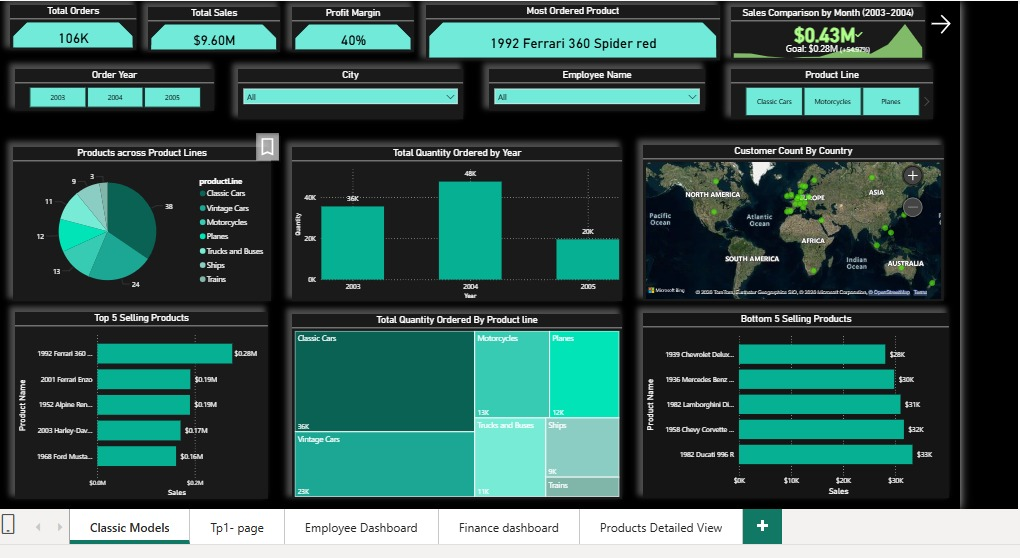

The dashboard page shown, as its layout file describes it:
{"tool":"powerbi","page":{"name":"Classic Models","canvas":[1700,900],"ordinal":0},"visuals":[{"type":"cardVisual","title":"Profit Margin","fields":{"Data":["Order Details.Profit_%"]},"box":[518,10.1,216.3,80.5],"z":0},{"type":"cardVisual","title":"Most Ordered Product","fields":{"Data":["Orders.Most_Ordered_Product"]},"box":[754.4,7.5,520.6,98.1],"z":1000},{"type":"barChart","title":"Top 5 Selling Products","fields":{"Category":["Products.productName"],"Y":["Sum(Order Details.Sales)"]},"box":[18.1,535.8,485.4,350.5],"z":2000},{"type":"pieChart","fields":{"Category":["Productlines.productLine"],"Y":["CountNonNull(Products.productLine)"]},"box":[18.1,233.6,485.4,292.1],"z":3000},{"type":"slicer","title":"Order Year","fields":{"Values":["Orders.Order_Year"]},"box":[26.2,120.9,370.6,92.7],"z":4000},{"type":"cardVisual","title":"Total Orders","fields":{"Data":["Sum(Table.Totalqty)"]},"box":[17.6,7.5,223.8,80.5],"z":5000},{"type":"kpi","title":"Sales Comparison by Month (2003-2004)","fields":{"Goal":["Orders.sales_2003_"],"Indicator":["Orders.sales_2004_"],"TrendLine":["Orders.Month Name"]},"box":[1291.1,0,343.2,99.8],"z":6000},{"type":"map","fields":{"Category":["Customers.country"]},"box":[1140,229.6,543.8,296.1],"z":7000},{"type":"treemap","fields":{"Group":["Productlines.productLine"],"Values":["Sum(Order Details.quantityOrdered)"]},"box":[518,538.2,603.6,349.6],"z":8000},{"type":"columnChart","fields":{"Category":["Orders.Order_Year"],"Y":["Sum(Order Details.quantityOrdered)"]},"box":[518,226.3,603.6,296.7],"z":9000},{"type":"cardVisual","title":"Total Sales","fields":{"Data":["Sum(Order Details.Sales)"]},"box":[261.5,10.1,233.9,80.5],"z":10000},{"type":"slicer","title":"City","fields":{"Values":["Customers.city"]},"box":[421,120.9,398.8,92.7],"z":11000},{"type":"slicer","title":"Employee Name","fields":{"Values":["Employees.Employee Full Name"]},"box":[866.1,120.9,382.7,92.7],"z":12000},{"type":"slicer","title":"Product Line","fields":{"Values":["Productlines.productLine"]},"box":[1295.1,120.9,370.6,92.7],"z":13000},{"type":"barChart","title":"Bottom 5 Selling  Products","fields":{"Category":["Products.productName"],"Y":["Sum(Order Details.Sales)"]},"box":[1140,535.8,541.8,350.5],"z":14000},{"type":"actionButton","box":[1634.6,0,62.9,83],"z":15000},{"type":"actionButton","box":[445.1,225.6,58.4,66.5],"z":16000}]}

Visuals, with their boxes on the page's 1700x900 design canvas (x1, y1, x2, y2). These are canvas units, not pixel positions in the 1020x558 screenshot, which may show the page scaled, cropped or inside an application window:
"Profit Margin" cardVisual: box=[518, 10, 734, 91]
"Most Ordered Product" cardVisual: box=[754, 8, 1275, 106]
"Top 5 Selling Products" barChart: box=[18, 536, 504, 886]
pieChart - Productlines.productLine x CountNonNull(Products.productLine): box=[18, 234, 504, 526]
"Order Year" slicer: box=[26, 121, 397, 214]
"Total Orders" cardVisual: box=[18, 8, 241, 88]
"Sales Comparison by Month (2003-2004)" kpi: box=[1291, 0, 1634, 100]
map - Customers.country: box=[1140, 230, 1684, 526]
treemap - Productlines.productLine x Sum(Order Details.quantityOrdered): box=[518, 538, 1122, 888]
columnChart - Orders.Order_Year x Sum(Order Details.quantityOrdered): box=[518, 226, 1122, 523]
"Total Sales" cardVisual: box=[262, 10, 495, 91]
"City" slicer: box=[421, 121, 820, 214]
"Employee Name" slicer: box=[866, 121, 1249, 214]
"Product Line" slicer: box=[1295, 121, 1666, 214]
"Bottom 5 Selling  Products" barChart: box=[1140, 536, 1682, 886]
actionButton: box=[1635, 0, 1698, 83]
actionButton: box=[445, 226, 504, 292]
